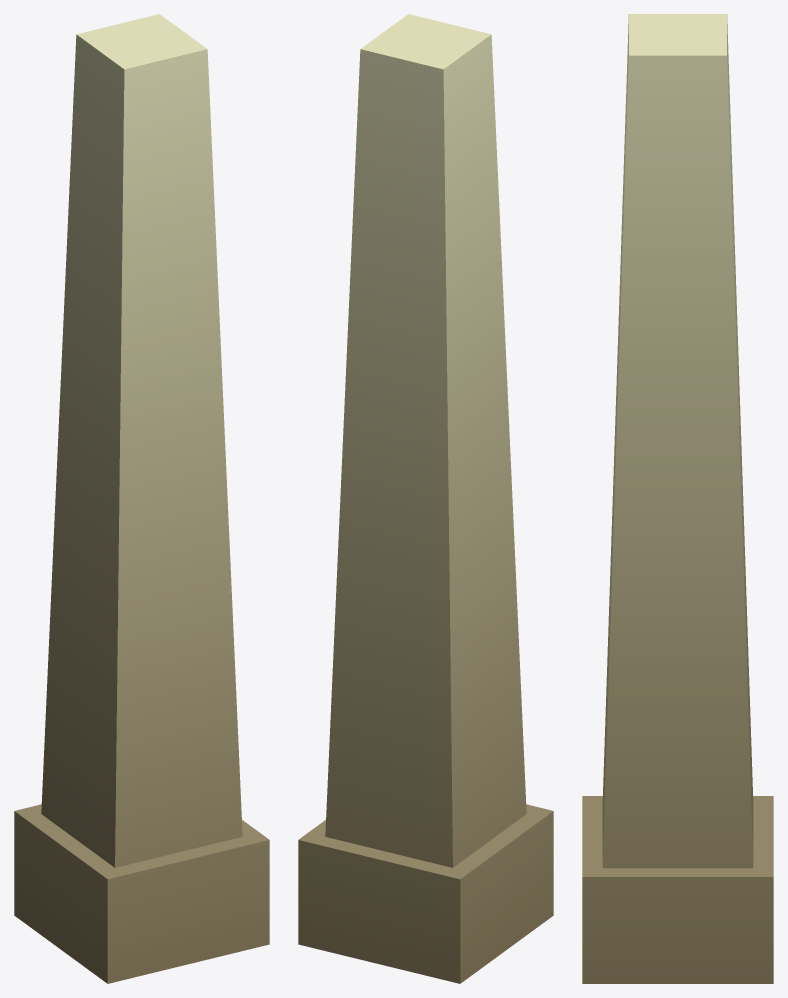
File: ModernPillar_02.fbx
The picture shows the model from 3 angles, left to right: view 1: azimuth 30°, elevation 25°; view 2: azimuth 150°, elevation 25°; view 3: azimuth 270°, elevation 25°; orthographic projection. The views are drawn at different scales.
Parts seen in each view (by area): view 1: ModernPillar_02_Mesh; view 2: ModernPillar_02_Mesh; view 3: ModernPillar_02_Mesh.
Boxes of the visible parts, left/top/right/bottom form: ModernPillar_02_Mesh: left=14, top=14, right=269, bottom=983; ModernPillar_02_Mesh: left=298, top=14, right=553, bottom=983; ModernPillar_02_Mesh: left=582, top=14, right=773, bottom=983.
Bounding box in the file's own units: 358 × 1877 × 358.
